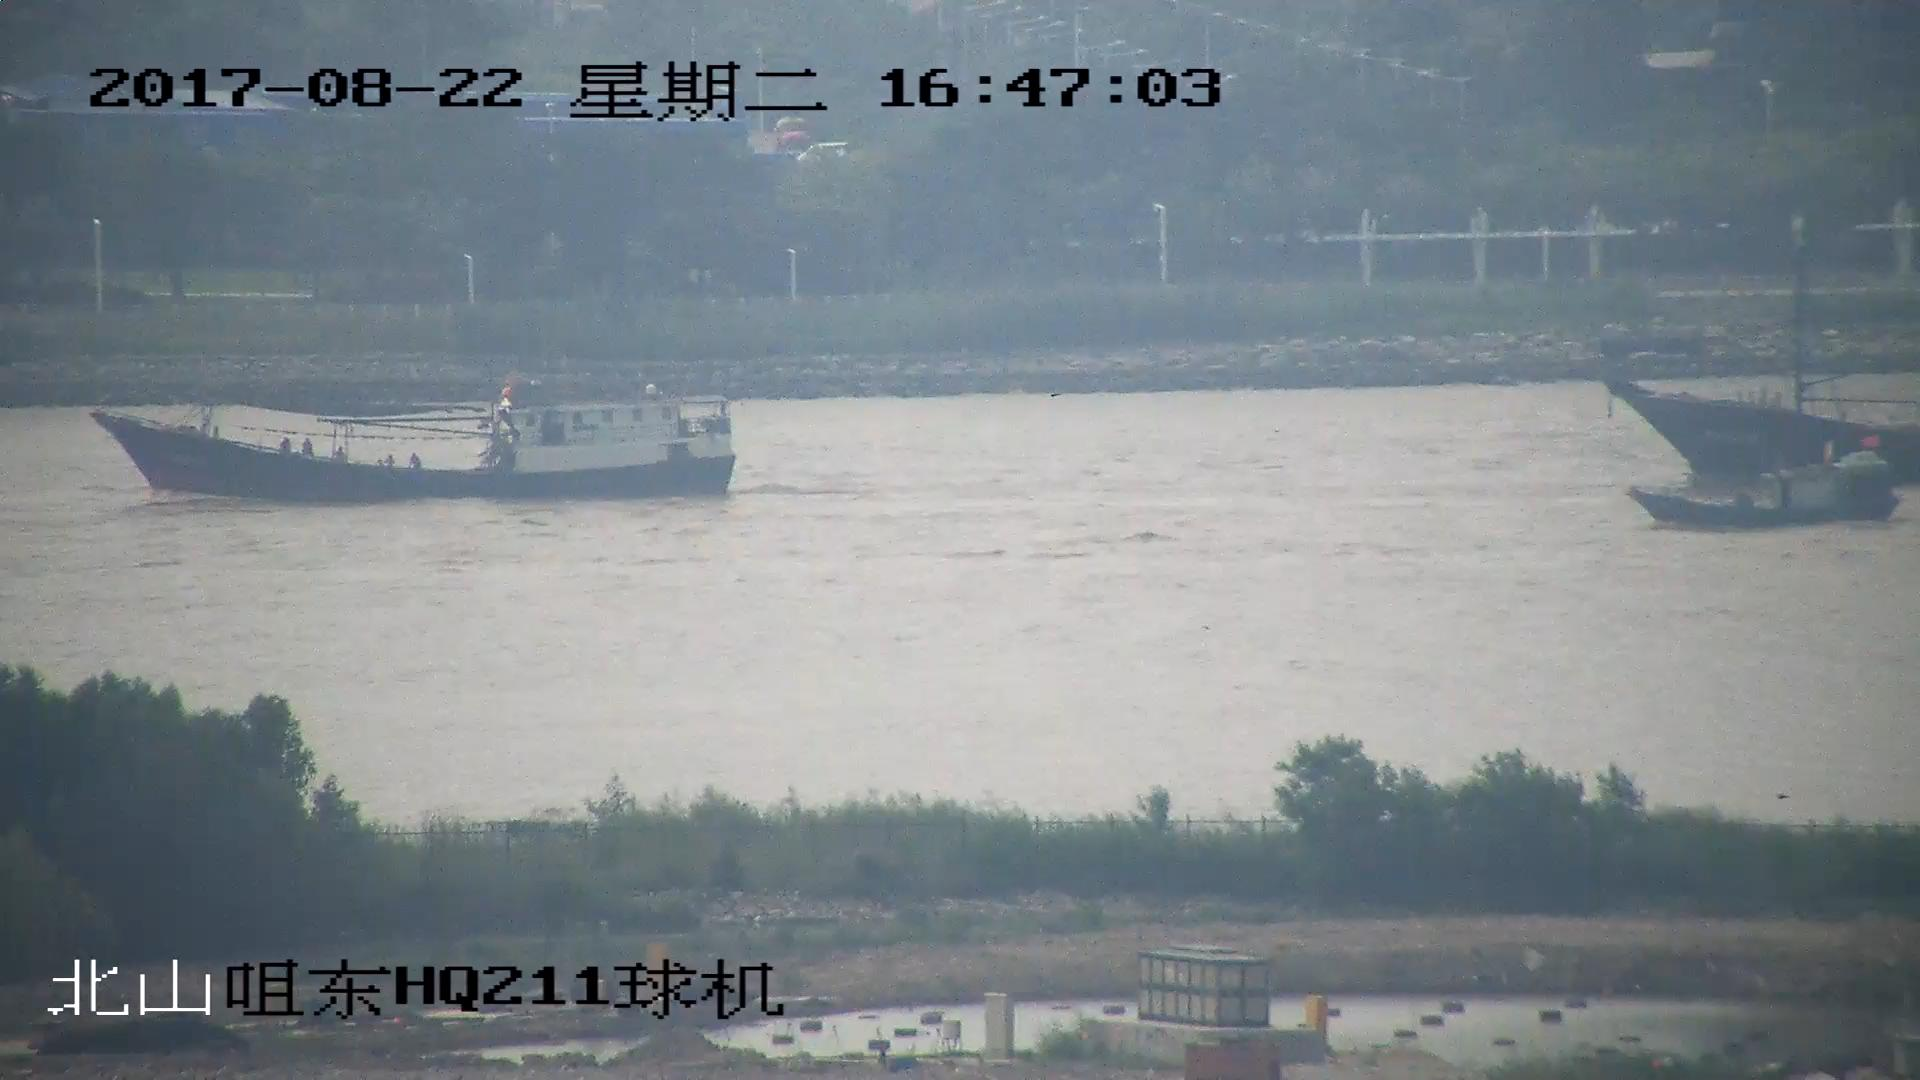fishing boat: (93, 374, 738, 503), (1608, 227, 1920, 480), (1621, 433, 1906, 533)
